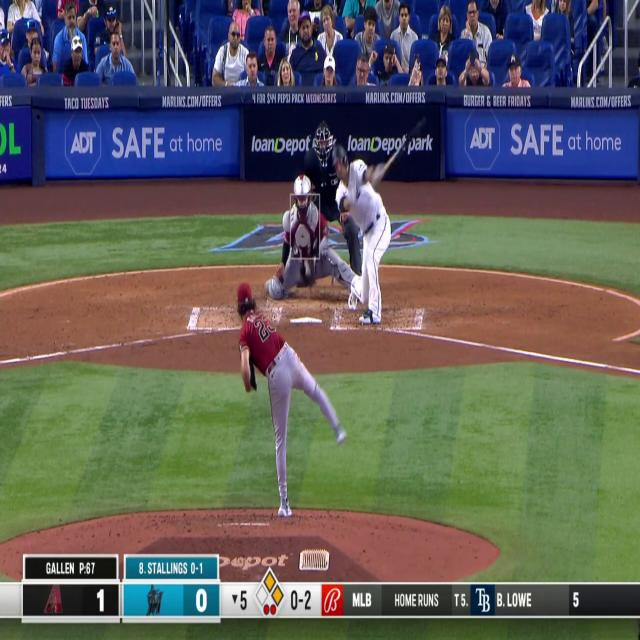baseball: (302, 257, 312, 277)
